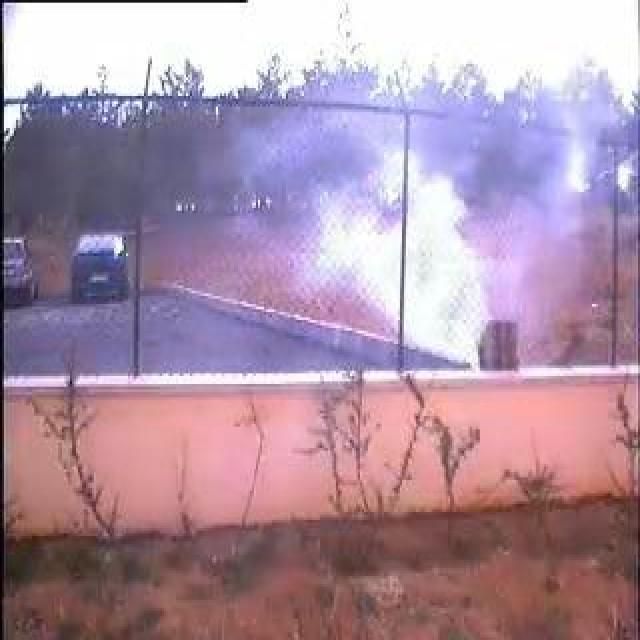Smoke: (305, 118, 583, 374)
